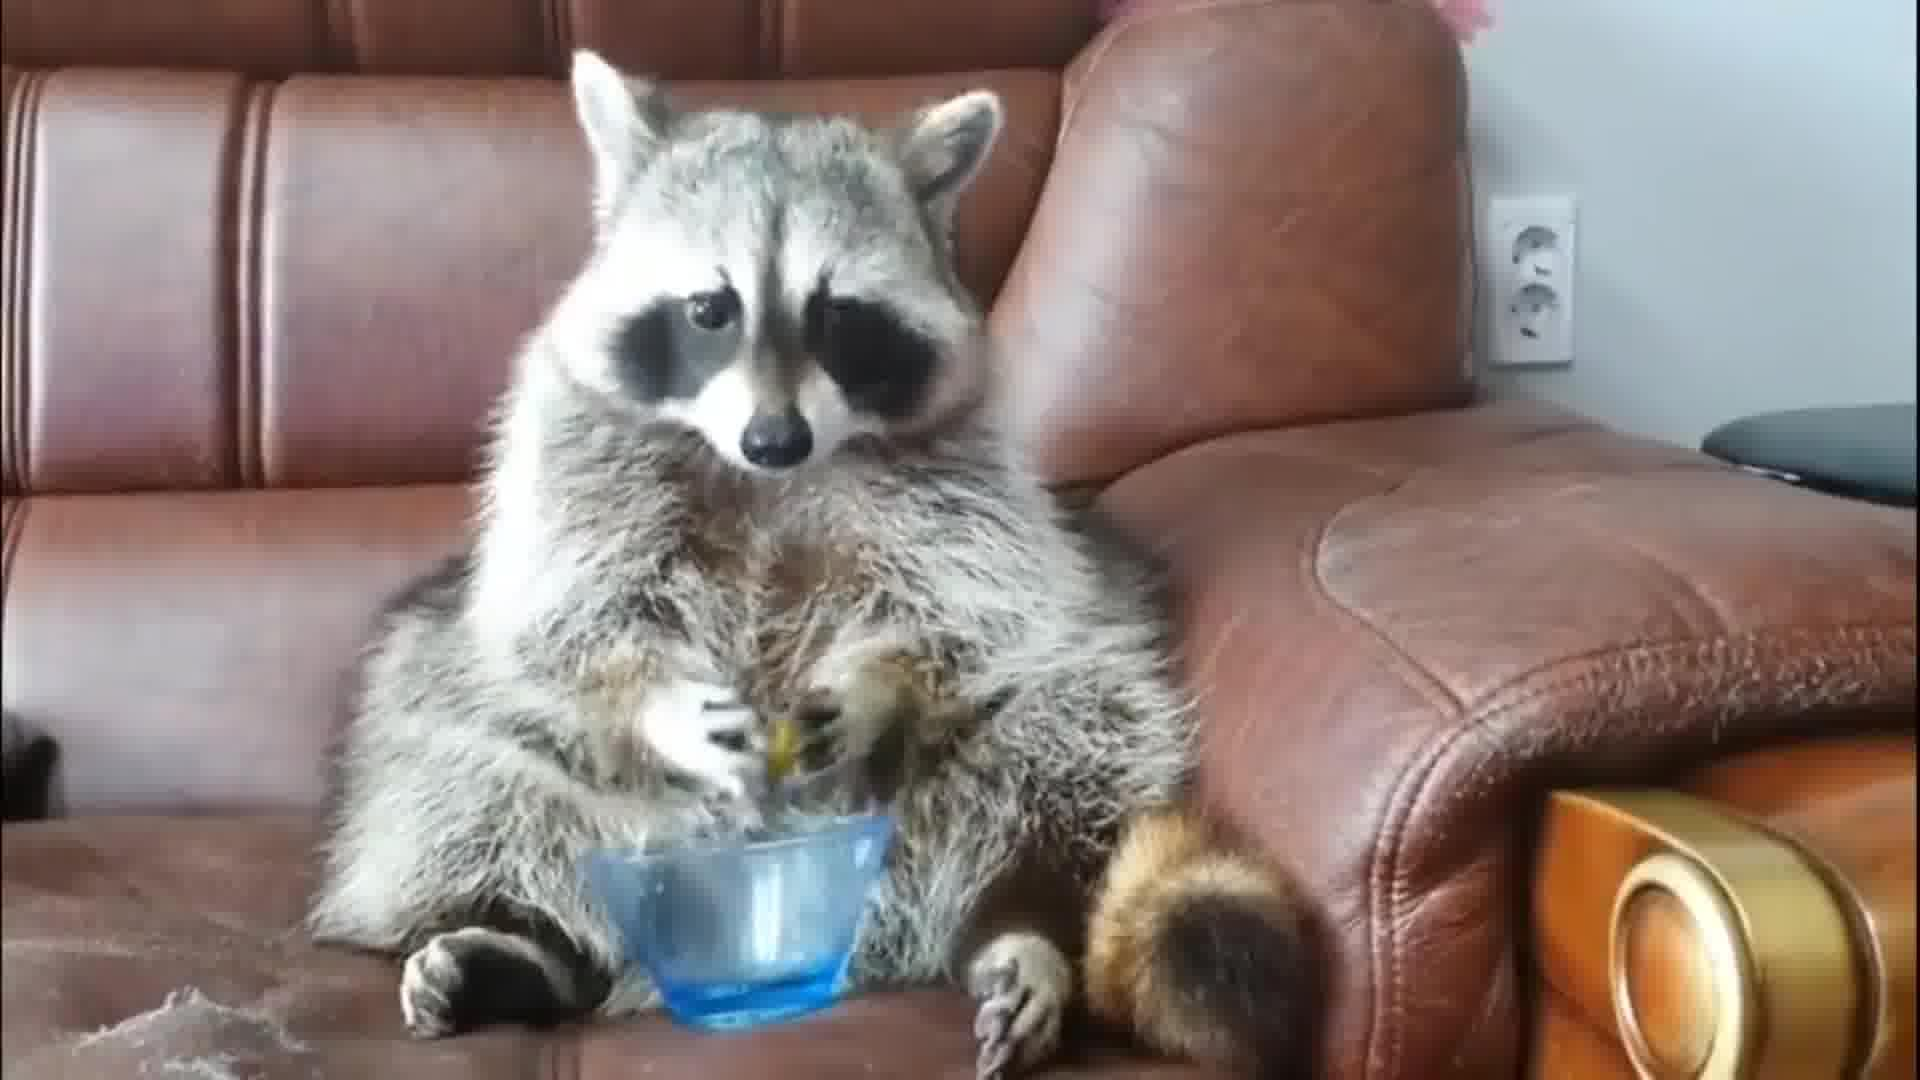raccoon: (311, 47, 1318, 1080)
